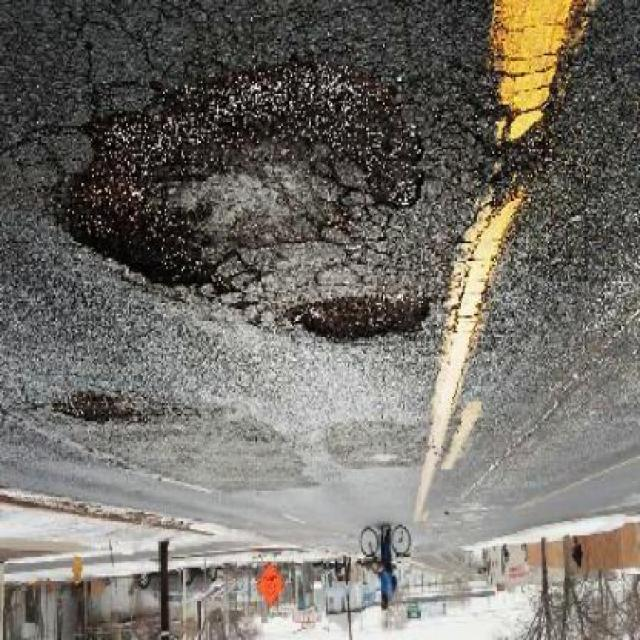pothole1: (50, 57, 430, 303), (284, 295, 438, 347), (53, 390, 158, 428)
